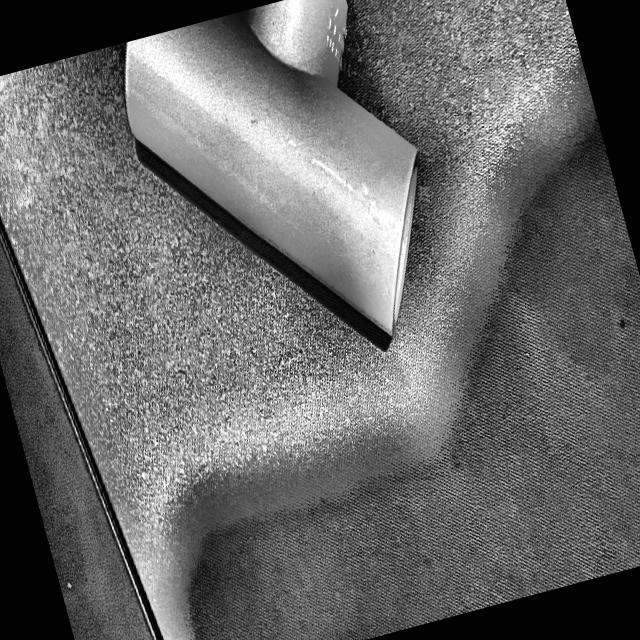EQUALTEE: (125, 0, 417, 338)
